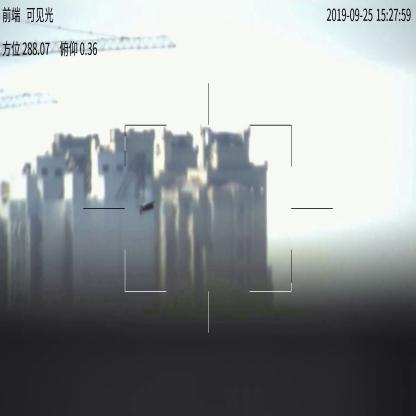uav: (138, 202, 154, 214)
